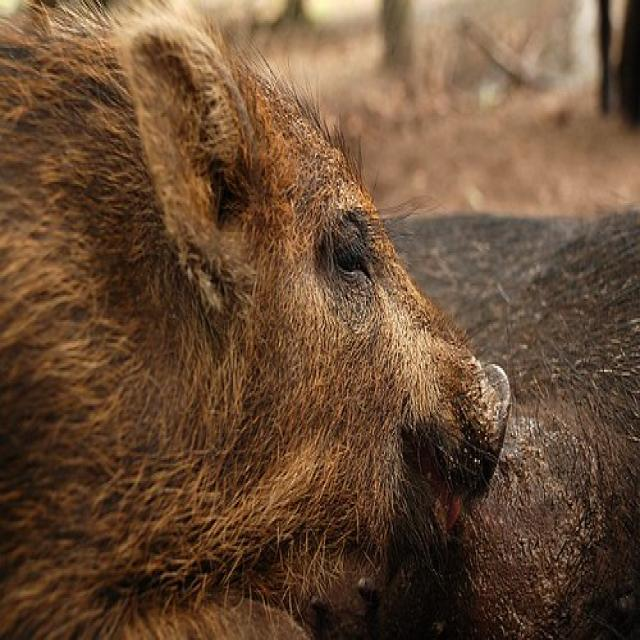boar: (0, 0, 524, 640), (295, 168, 640, 639)
